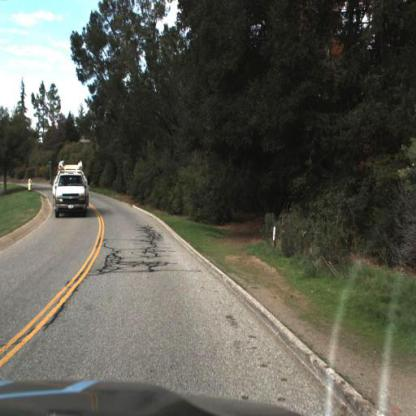car: (47, 155, 91, 219), (48, 158, 90, 216)
